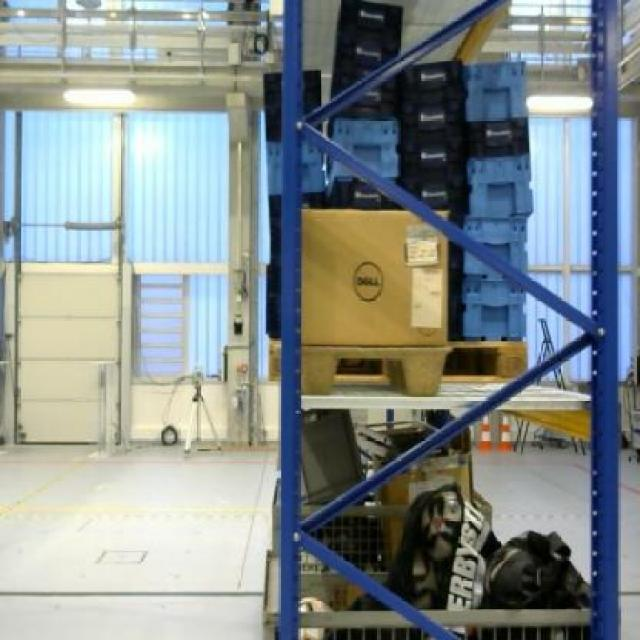box: (298, 206, 449, 345)
